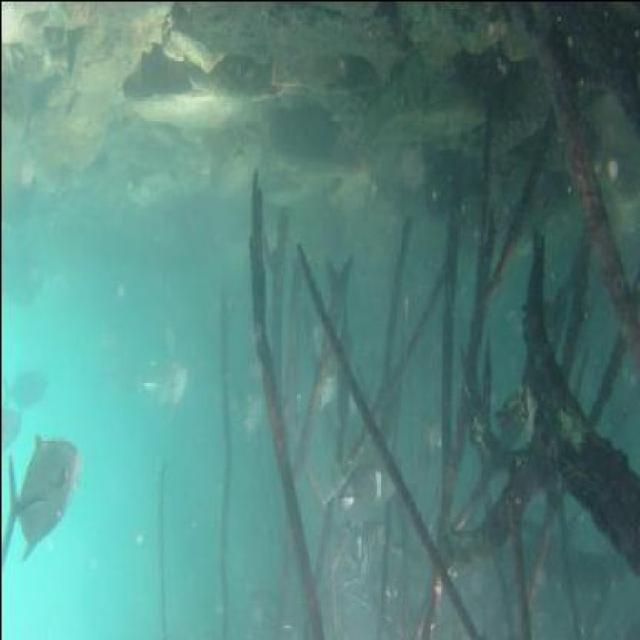Caranx_sexfasciatus_juvenile: (3, 430, 80, 568), (318, 456, 392, 502), (332, 448, 376, 522), (4, 362, 51, 418), (136, 352, 176, 406), (165, 350, 198, 412), (350, 513, 384, 569), (242, 386, 268, 448), (317, 362, 340, 410), (0, 408, 20, 455)
